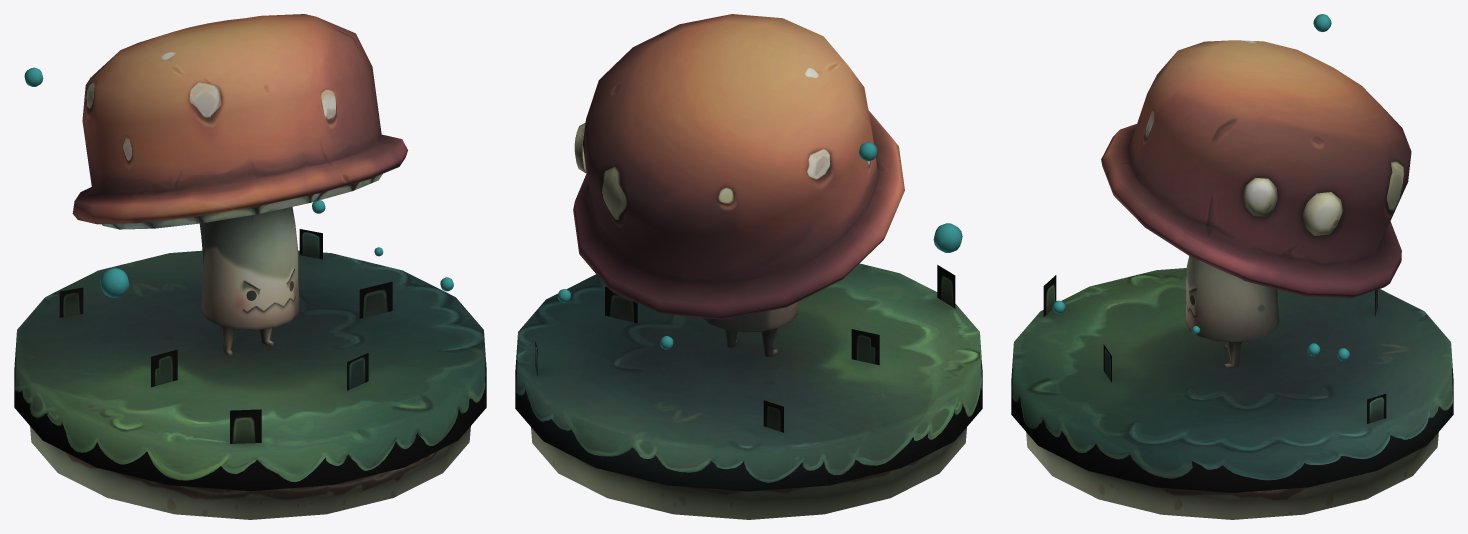
The model's file is mushroom.glb.
3 views of the same model, side by side, from view 1: azimuth 30°, elevation 25°; view 2: azimuth 150°, elevation 25°; view 3: azimuth 270°, elevation 25° (orthographic). The views are drawn at different scales.
Parts seen in each view (by area): view 1: mushroom; view 2: mushroom; view 3: mushroom.
Part boxes in pixels (x1,y1,x2,y2): mushroom: [14, 14, 486, 519]; mushroom: [515, 14, 982, 519]; mushroom: [1011, 14, 1453, 519].
Bounding box in the file's own units: 4.47 × 4.08 × 4.4.
Materials: 2 (2 with a texture image).
